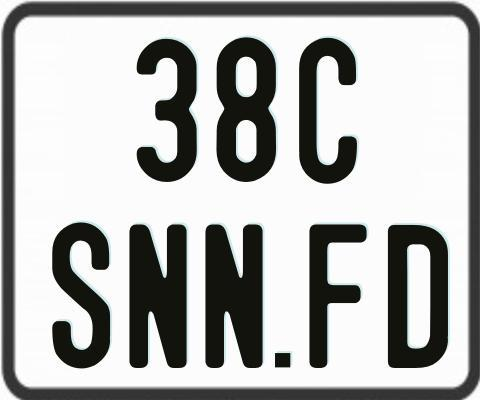3: (136, 38, 197, 186)
8: (215, 37, 280, 183)
C: (297, 38, 358, 186)
D: (388, 225, 448, 370)
F: (308, 224, 367, 372)
N: (205, 221, 268, 365), (128, 221, 187, 370)
S: (52, 221, 112, 368)
